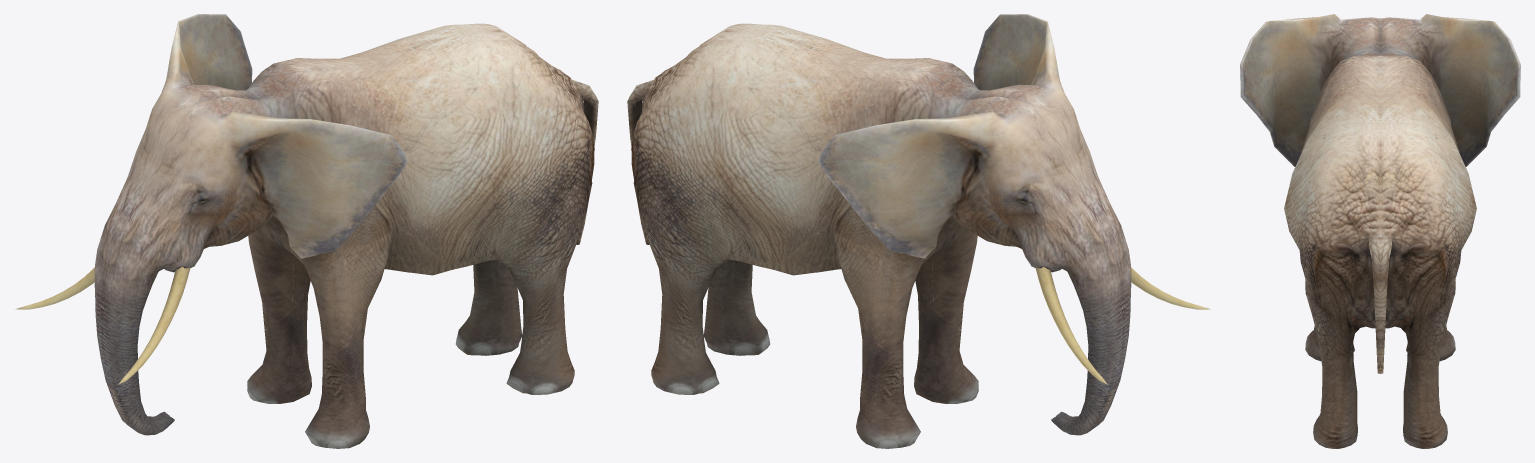
Rendered from elephant.glb.
The picture shows the model from 3 angles, left to right: view 1: azimuth 30°, elevation 25°; view 2: azimuth 150°, elevation 25°; view 3: azimuth 270°, elevation 25°; orthographic projection. The views are drawn at different scales.
Visible parts, largest first — view 1: Object_2; view 2: Object_2; view 3: Object_2.
Part boxes in pixels (bbox=[...]): Object_2: bbox=[15, 14, 598, 448]; Object_2: bbox=[627, 14, 1210, 448]; Object_2: bbox=[1240, 14, 1520, 448].
Bounding box in the file's own units: 6.28 × 4.08 × 3.41.
1 material, 1 textured.
